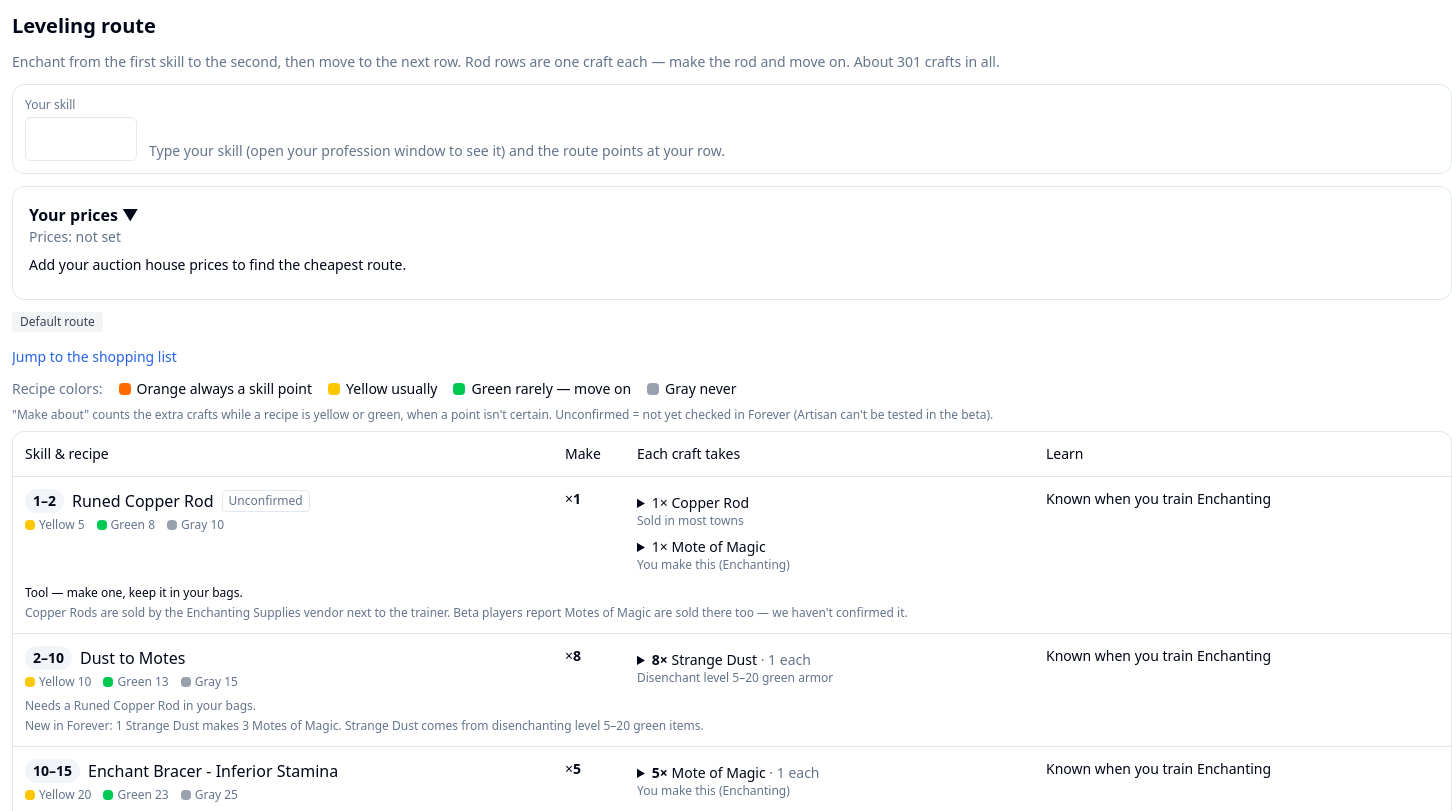
Test: Your prices panel › flags a price it can't read
This screenshot has width=1452, height=811.
Click the button "Your prices ▼ Prices: not set" at (76, 215), box [29, 203, 1435, 247]
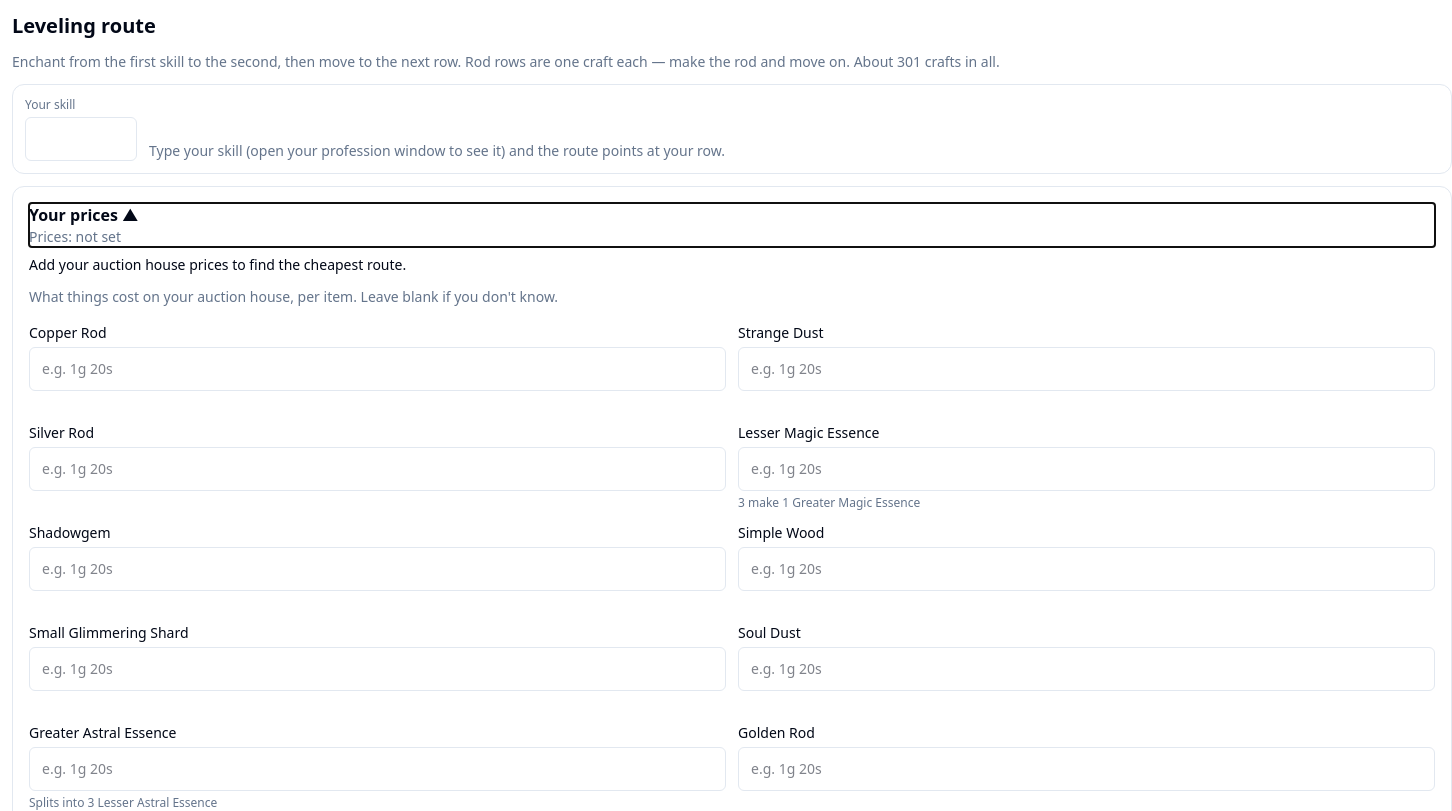
Type "lots" into the field labelled "Strange Dust" at (1086, 369), box [738, 347, 1435, 391]
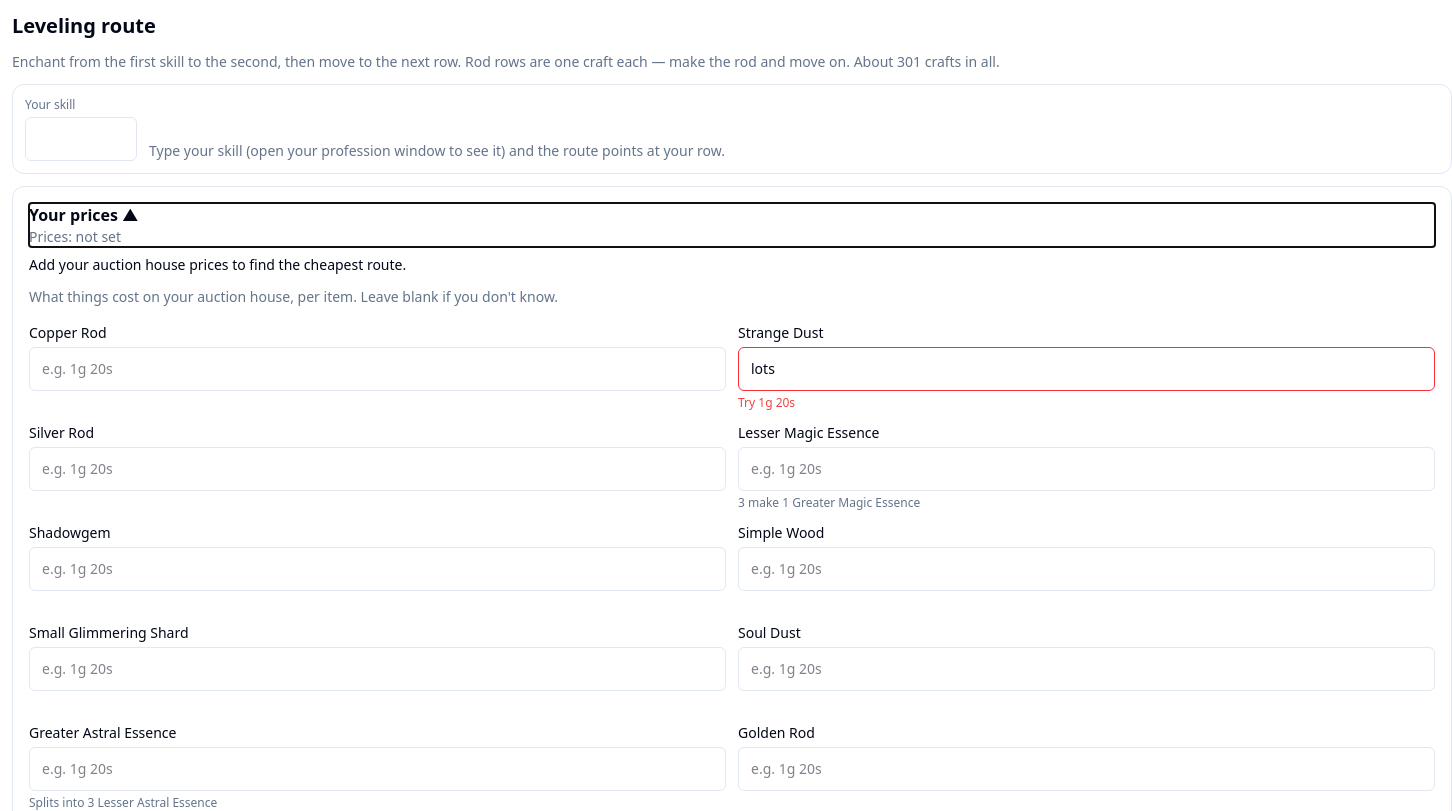
Result: the text "Try 1g 20s" is shown at [738, 394, 795, 411]
